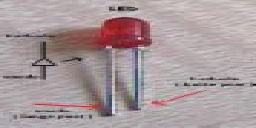LED: (97, 17, 151, 117)
